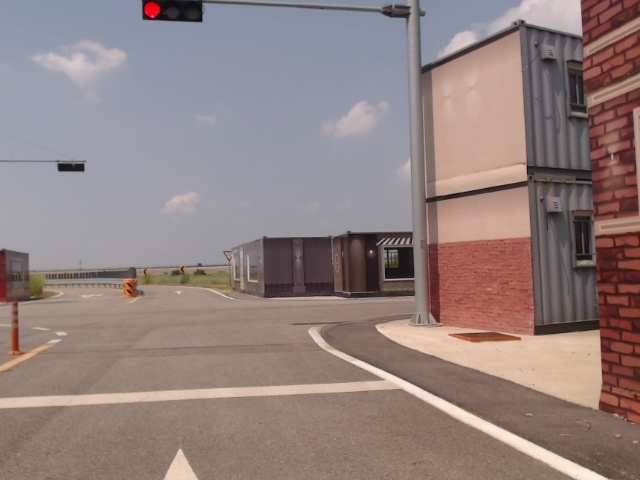red_3: (141, 1, 203, 23)
